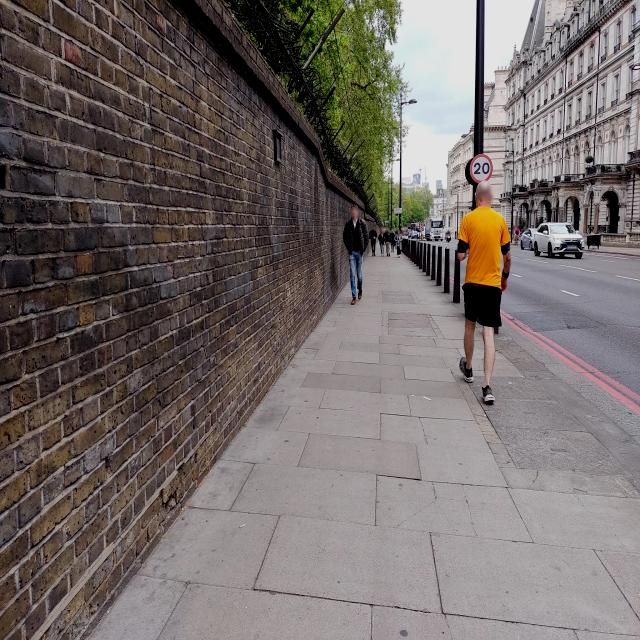bike: (514, 234, 520, 246), (446, 232, 451, 242)
car: (534, 220, 584, 260), (428, 215, 447, 242), (520, 227, 538, 251), (411, 232, 419, 240)
